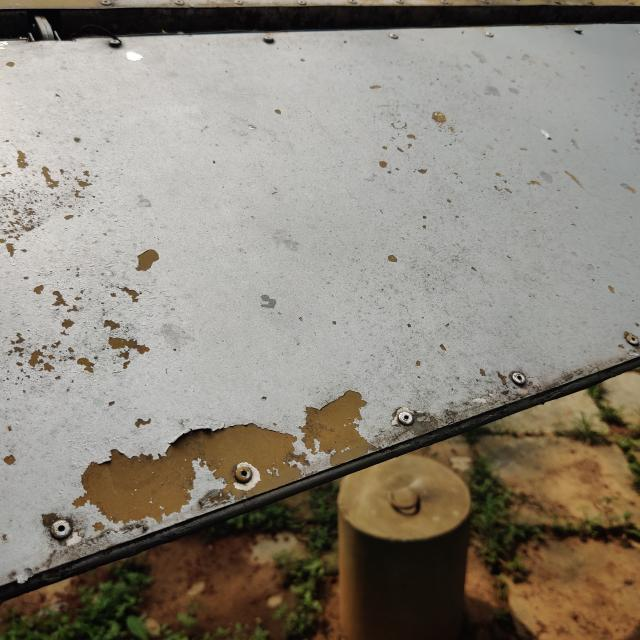paint-off: (62, 371, 388, 555)
